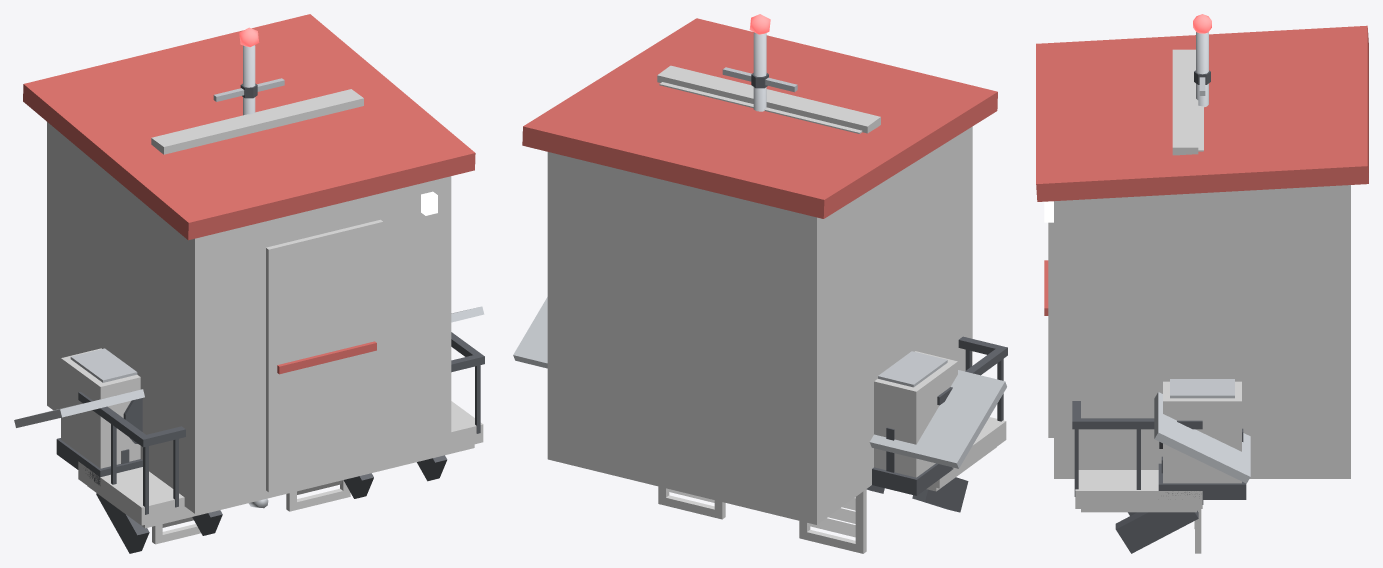
Rendered from building_kit.glb.
3 views of the same model, side by side, from view 1: azimuth 30°, elevation 25°; view 2: azimuth 150°, elevation 25°; view 3: azimuth 270°, elevation 25° (orthographic). The views are drawn at different scales.
Visible parts, largest first — view 1: bk_stairhut, bk_balcony_l, bk_acs, bk_doorframe, bk_shutters, bk_antenna, bk_solar, bk_balcony_s; view 2: bk_stairhut, bk_acs, bk_solar, bk_doorframe, bk_balcony_l, bk_shutters, bk_antenna; view 3: bk_stairhut, bk_balcony_l, bk_acs, bk_solar, bk_doorframe, bk_antenna.
Part boxes in pixels (box(x1,y1,x2,y2)): bk_stairhut: box(23, 14, 475, 513); bk_balcony_l: box(78, 332, 484, 553); bk_acs: box(56, 348, 142, 485); bk_doorframe: box(151, 89, 363, 154); bk_shutters: box(152, 480, 350, 544); bk_antenna: box(213, 27, 284, 115); bk_solar: box(14, 306, 484, 463); bk_balcony_s: box(192, 464, 401, 535); bk_stairhut: box(522, 18, 997, 524); bk_acs: box(872, 351, 957, 495); bk_solar: box(513, 297, 1006, 472); bk_doorframe: box(657, 65, 880, 133); bk_balcony_l: box(912, 336, 1007, 512); bk_shutters: box(658, 486, 866, 553); bk_antenna: box(722, 14, 797, 111); bk_stairhut: box(1036, 25, 1368, 478); bk_balcony_l: box(1072, 401, 1202, 553); bk_acs: box(1158, 379, 1246, 499); bk_solar: box(1154, 392, 1250, 483); bk_doorframe: box(1172, 49, 1203, 155); bk_antenna: box(1193, 14, 1211, 107).
Size of the model in its own units: 3.46 by 3.84 by 2.35.
